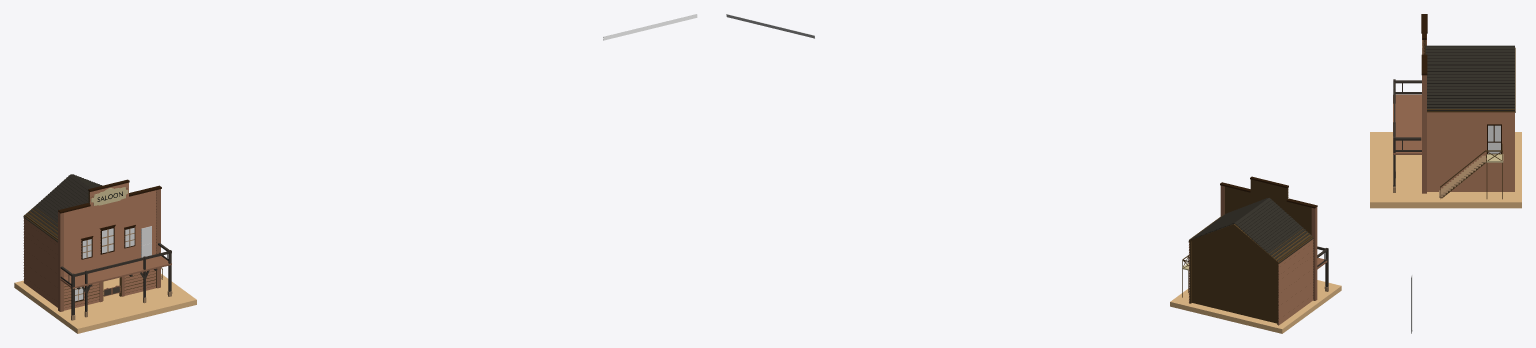
The model's file is western_bar.glb.
3 views of the same model, side by side, from view 1: azimuth 30°, elevation 25°; view 2: azimuth 150°, elevation 25°; view 3: azimuth 270°, elevation 25° (orthographic). The views are drawn at different scales.
Visible parts, largest first — view 1: Cube.058, Cube, Cube.035, Cube.037, Cube.006, Cube.074, Cube.031, Cube.032; view 2: Cube.004, Cube.037, Cube.035, Cube, Cube.001, Cube.036, Cube.005, Cube.074; view 3: Cube.034, Cube.036, Cube, Cube.006, Cube.075, Cube.050, Cube.070, Cube.005, Cube.037, Cube.009, Cube.026, Cube.072 (+2 smaller).
Boxes of the visible parts, bbox=[...] form: Cube.058: bbox=[64, 190, 156, 283]; Cube: bbox=[14, 274, 196, 333]; Cube.035: bbox=[23, 218, 57, 307]; Cube.037: bbox=[23, 174, 90, 241]; Cube.006: bbox=[60, 256, 171, 288]; Cube.074: bbox=[58, 211, 63, 311]; Cube.031: bbox=[124, 269, 155, 295]; Cube.032: bbox=[64, 282, 99, 310]; Cube.004: bbox=[1191, 226, 1277, 323]; Cube.037: bbox=[1234, 198, 1313, 263]; Cube.035: bbox=[1278, 239, 1313, 325]; Cube: bbox=[1170, 280, 1341, 333]; Cube.001: bbox=[1224, 179, 1311, 234]; Cube.036: bbox=[1189, 198, 1268, 240]; Cube.005: bbox=[1188, 224, 1312, 263]; Cube.074: bbox=[1311, 207, 1317, 300]; Cube.034: bbox=[1427, 112, 1514, 191]; Cube.036: bbox=[1425, 46, 1514, 110]; Cube: bbox=[1370, 132, 1521, 208]; Cube.006: bbox=[1393, 94, 1421, 154]; Cube.075: bbox=[1422, 75, 1426, 193]; Cube.050: bbox=[1439, 155, 1485, 197]; Cube.070: bbox=[1488, 125, 1500, 153]; Cube.005: bbox=[1427, 47, 1515, 112]; Cube.037: bbox=[1425, 45, 1514, 46]; Cube.009: bbox=[1393, 136, 1395, 192]; Cube.026: bbox=[1486, 154, 1503, 162]; Cube.072: bbox=[1421, 54, 1427, 75].
Bounding box in the file's own units: 39.53 × 9 × 6.78.
